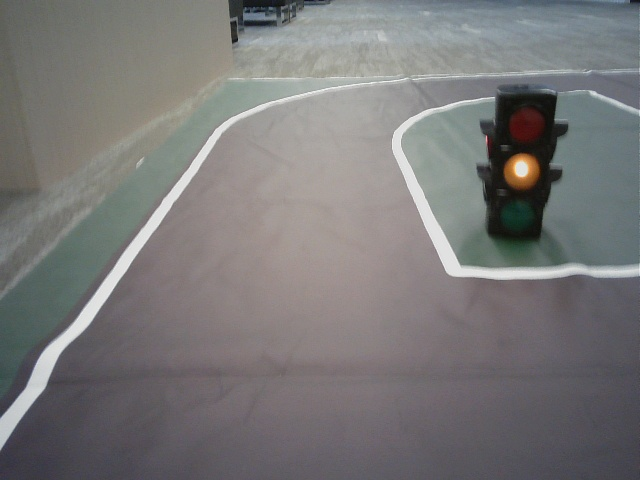yellow: (498, 96, 545, 236)
